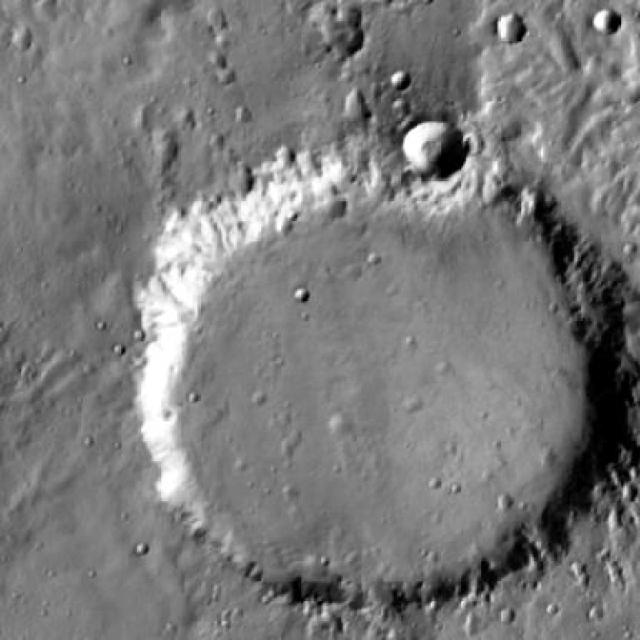crater: (118, 135, 630, 617), (402, 122, 467, 182), (299, 0, 361, 57), (496, 14, 526, 43), (336, 95, 366, 123), (594, 5, 623, 33), (330, 412, 352, 433), (389, 67, 411, 87), (209, 52, 226, 68), (215, 70, 232, 85)
